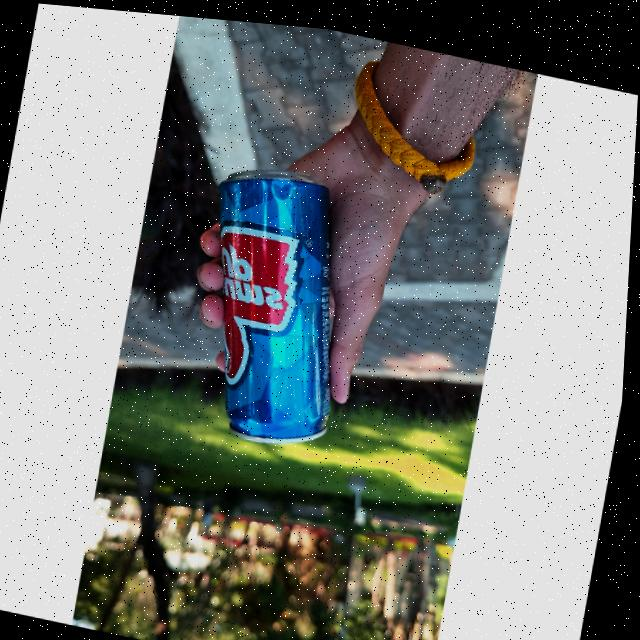Thums Up: (169, 150, 385, 457)
